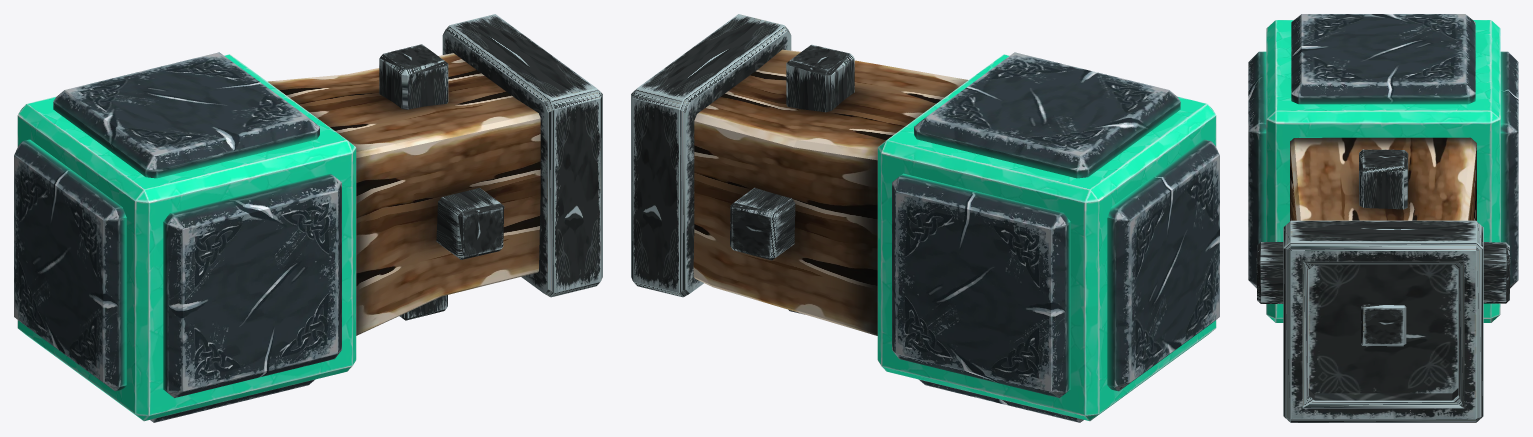
The model's file is step_002.glb.
The picture shows the model from 3 angles, left to right: view 1: azimuth 30°, elevation 25°; view 2: azimuth 150°, elevation 25°; view 3: azimuth 270°, elevation 25°; orthographic projection. The views are drawn at different scales.
Visible parts, largest first — view 1: StartingBlock_74c47283-72fb-4408-a40b-371f75eef3d3, SingleWoodenBlock_12c9bb10-82ed-4a1a-a479-a46bfc47bf6e; view 2: StartingBlock_74c47283-72fb-4408-a40b-371f75eef3d3, SingleWoodenBlock_12c9bb10-82ed-4a1a-a479-a46bfc47bf6e; view 3: SingleWoodenBlock_12c9bb10-82ed-4a1a-a479-a46bfc47bf6e, StartingBlock_74c47283-72fb-4408-a40b-371f75eef3d3.
Boxes of the visible parts, x1,y1,x2,y2 form: StartingBlock_74c47283-72fb-4408-a40b-371f75eef3d3: (14,52,356,422); SingleWoodenBlock_12c9bb10-82ed-4a1a-a479-a46bfc47bf6e: (268,14,602,335); StartingBlock_74c47283-72fb-4408-a40b-371f75eef3d3: (877,52,1219,422); SingleWoodenBlock_12c9bb10-82ed-4a1a-a479-a46bfc47bf6e: (631,14,968,335); SingleWoodenBlock_12c9bb10-82ed-4a1a-a479-a46bfc47bf6e: (1256,137,1510,422); StartingBlock_74c47283-72fb-4408-a40b-371f75eef3d3: (1248,14,1518,322).
Bounding box in the file's own units: 2.18 × 1.13 × 1.13.
2 materials, 2 textured.
